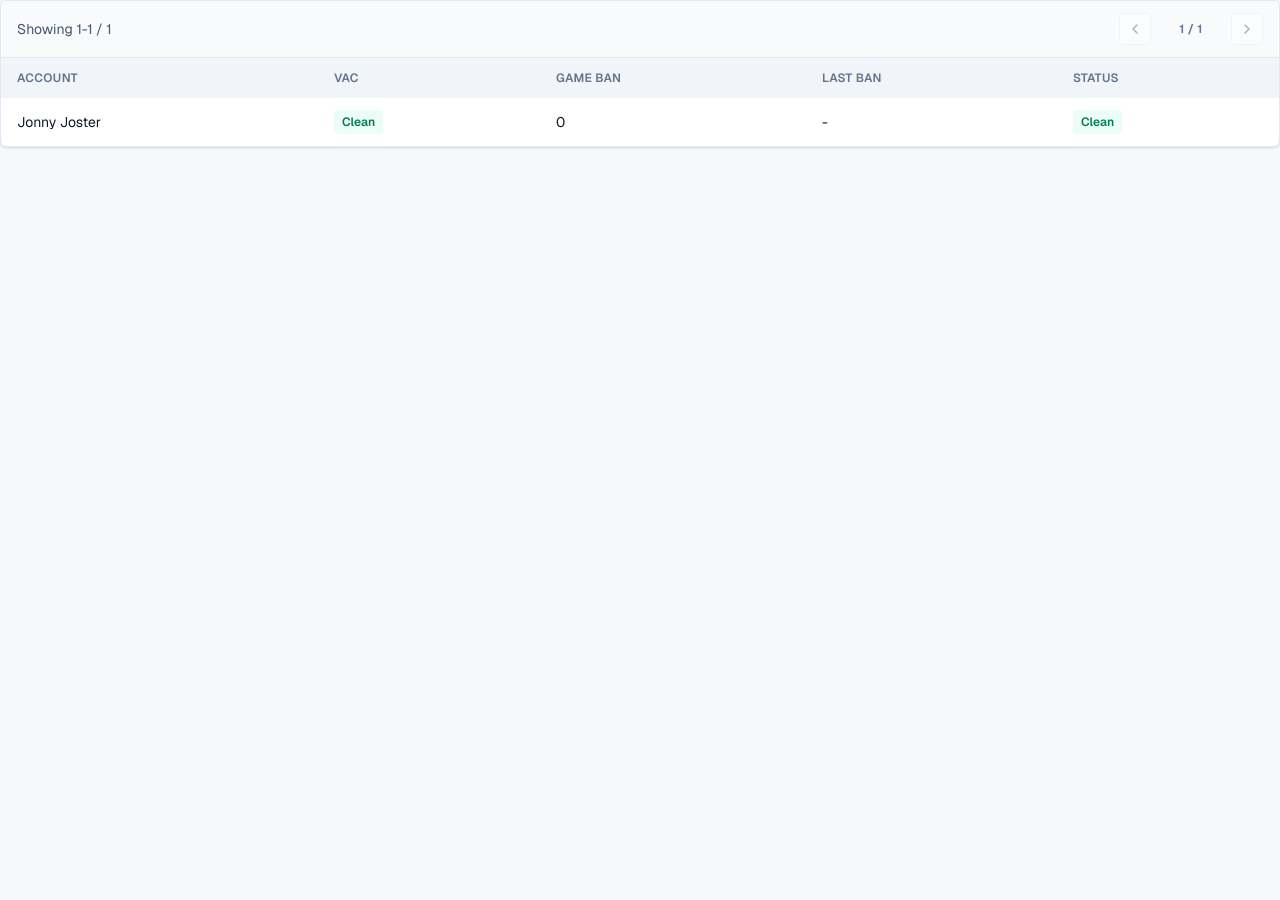
Test: BatchResultsTable › loads full account details when a compact batch row is selected
Click the text "Jonny Joster".
click(59, 122)  # box [1,98,318,146]
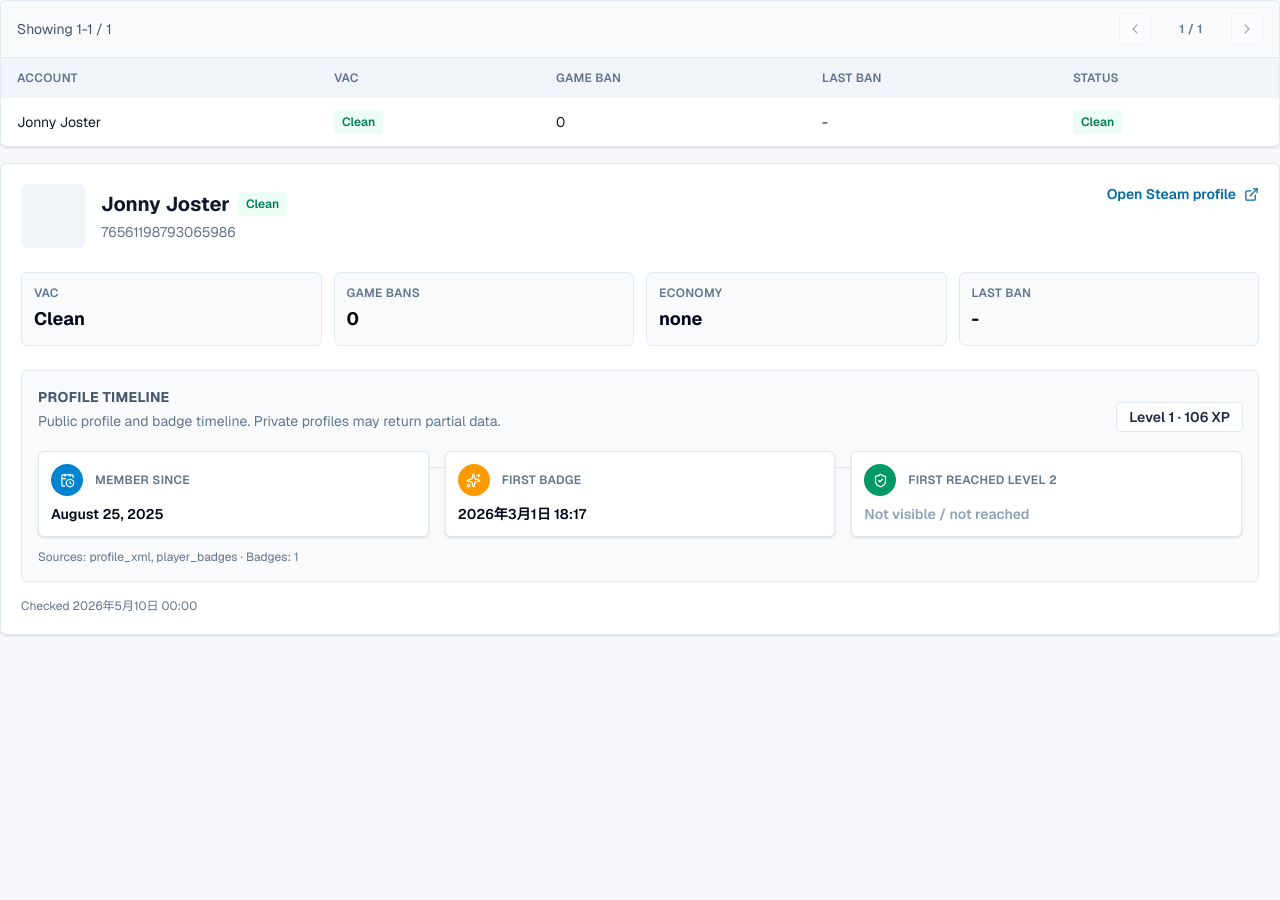
Expected: the text "August 25, 2025" is shown, [51,505,164,523]
